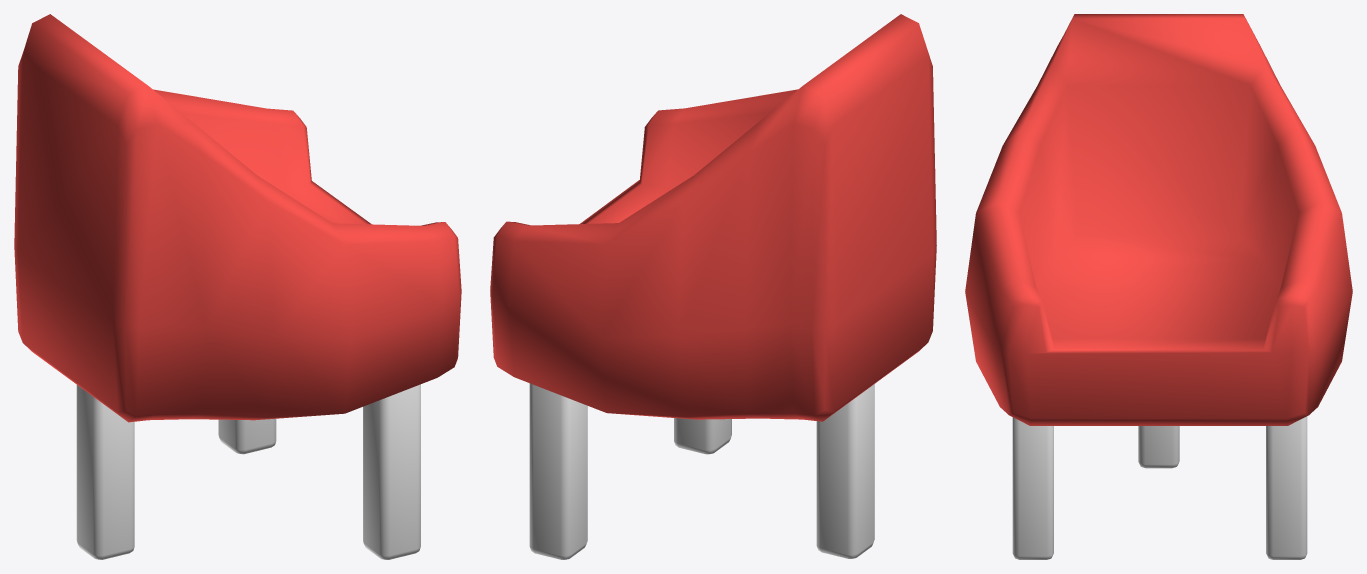
Rendered from Props_Chair_02.fbx.
3 renders of one model, left to right at view 1: azimuth 30°, elevation 25°; view 2: azimuth 150°, elevation 25°; view 3: azimuth 270°, elevation 25°, orthographic. The views are drawn at different scales.
Parts seen in each view (by area): view 1: Props_Chair_02; view 2: Props_Chair_02; view 3: Props_Chair_02.
Boxes of the visible parts, left/top/right/bottom form: Props_Chair_02: left=14, top=14, right=461, bottom=559; Props_Chair_02: left=490, top=14, right=936, bottom=559; Props_Chair_02: left=965, top=14, right=1352, bottom=559.
Size of the model in its own units: 51.02 by 78.38 by 62.51.
